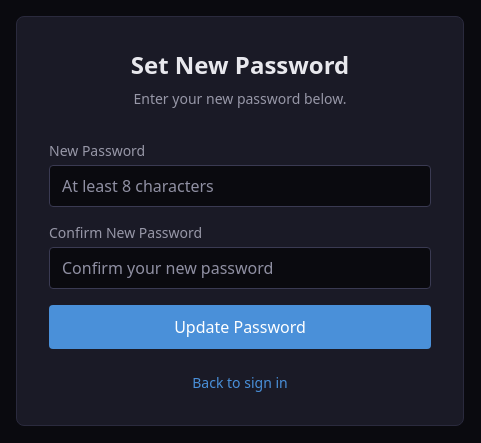
ResetPasswordPage › shows loading state during submission
The width and height of the screenshot is (481, 443).
Type "newpassword123" into the password field labelled "New Password". click: x=240, y=186
box: [49, 165, 431, 207]
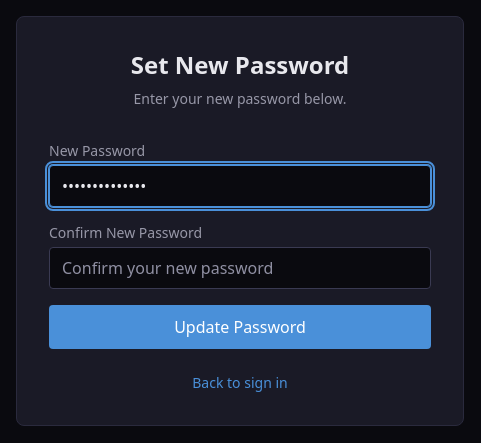
Type "newpassword123" into the password field labelled "Confirm New Password". click: x=240, y=268
box: [49, 247, 431, 289]
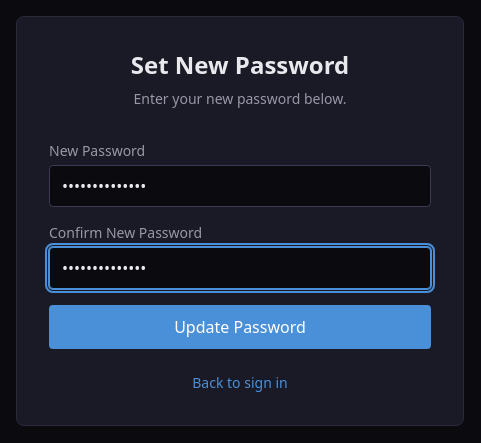
Click the button "Update Password". click: x=240, y=327
box: [49, 305, 431, 349]
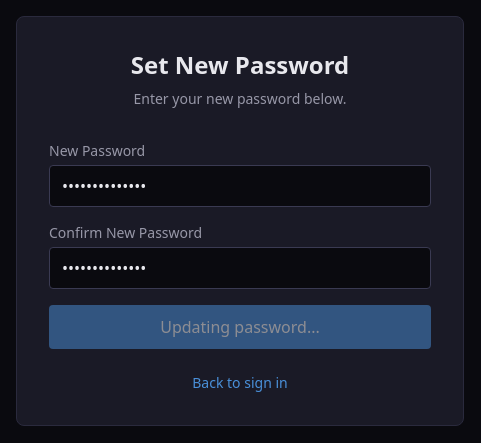
Check: the button "Updating password..." is disabled, box [49, 305, 431, 349]
